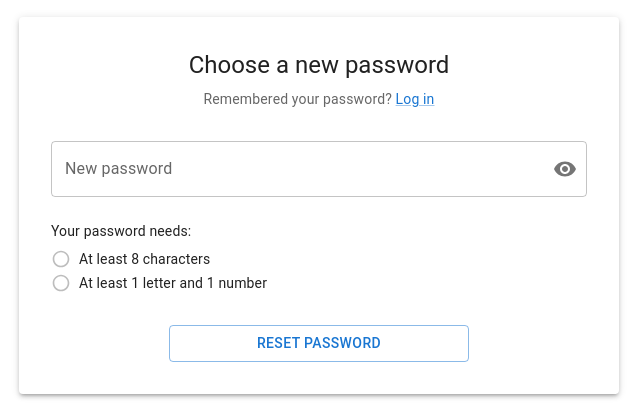
Test: ResetPasswordPage › explains an expired or used link instead of showing the form
Type "newpass123" into the password field labelled "New password" at (294, 169), box left=51, top=141, right=537, bottom=197
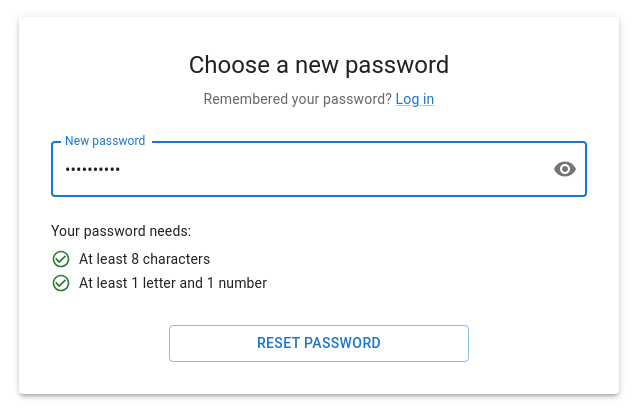
Click the button "Reset password" at (319, 344), box left=169, top=326, right=469, bottom=362
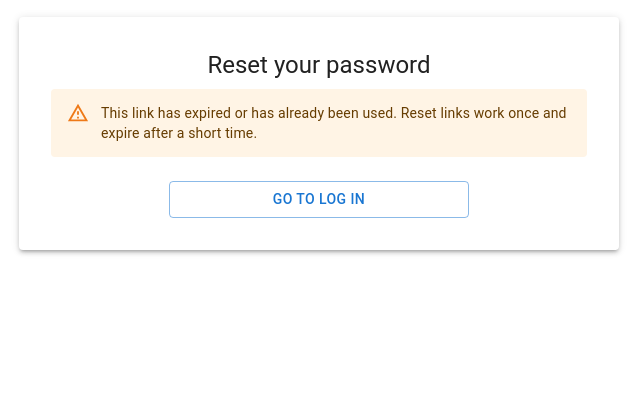
Expected: the text "This link has expired or has already been used" is shown, left=101, top=105, right=567, bottom=141
Expected: the heading labelled "new password" is gone
